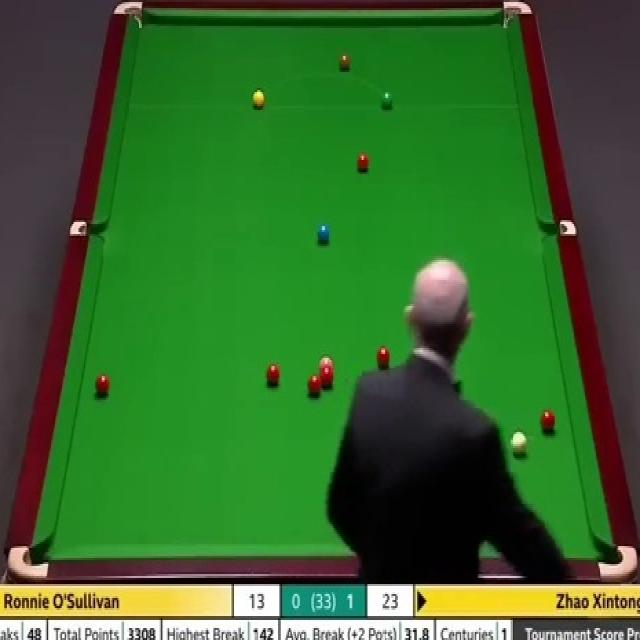blue-ball: (316, 223, 331, 244)
brown-ball: (338, 53, 351, 70)
green-ball: (380, 89, 393, 110)
pink-ball: (318, 354, 335, 372)
red-ball: (265, 363, 281, 387), (94, 372, 110, 396), (355, 150, 371, 173), (540, 410, 556, 433), (376, 346, 391, 367), (308, 375, 322, 397), (318, 370, 334, 387)
white-ball: (508, 431, 528, 458)
yellow-ball: (252, 88, 265, 108)
